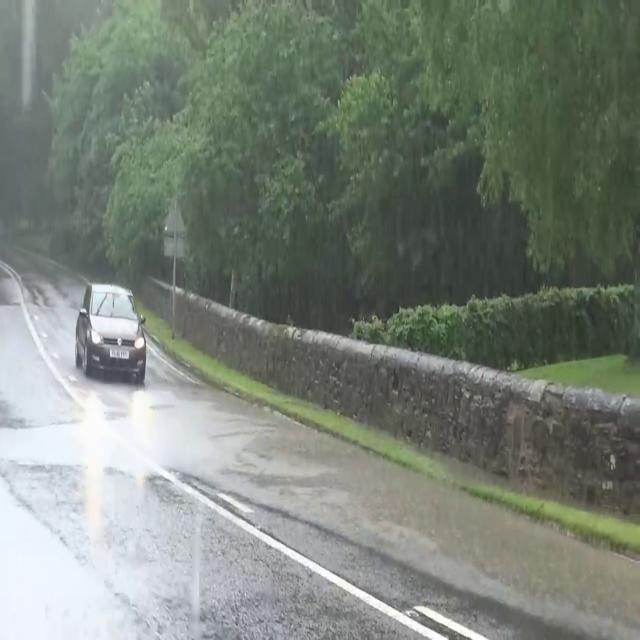license-plate-annotation: (107, 344, 134, 360)
